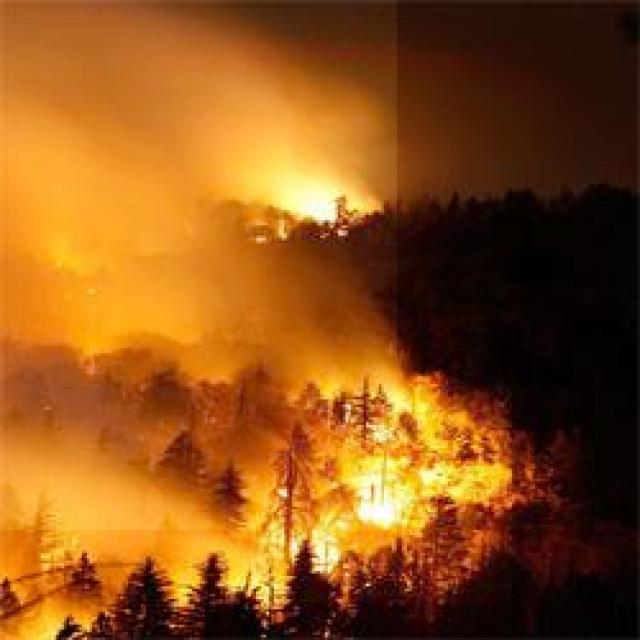Fire: (252, 386, 511, 602), (262, 177, 380, 234)
Smoke: (0, 0, 397, 530)
